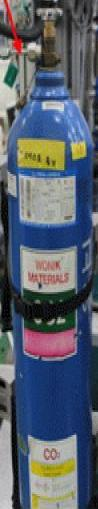cylinder: (1, 1, 98, 509)
